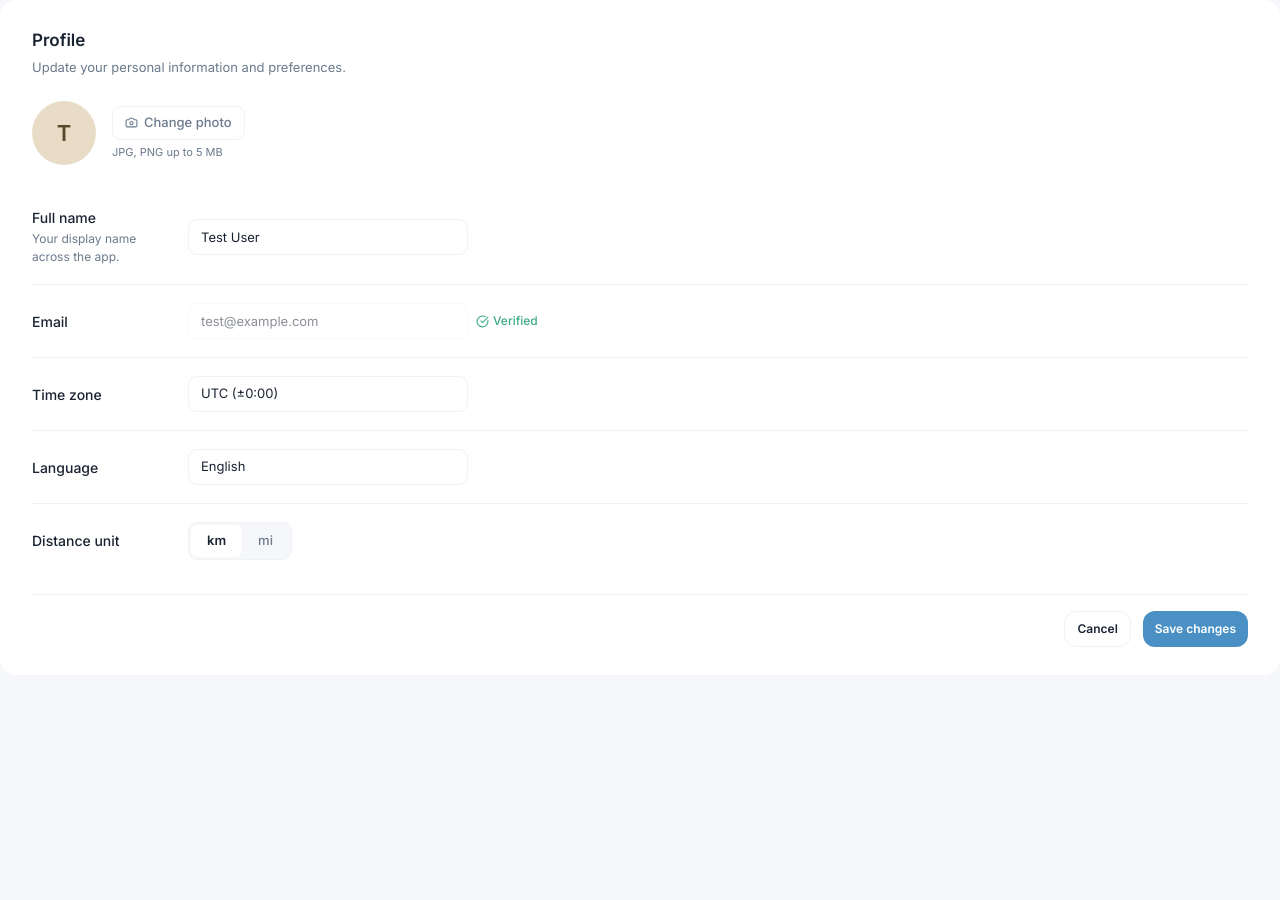
Test case: ProfileSection › shows "No changes to save" toast when nothing has changed
The image size is (1280, 900).
What coordinates should you click on to do the following:
click the button "Save changes"
I would click on:
 (1195, 628)
Its box is [1143,610,1248,646].
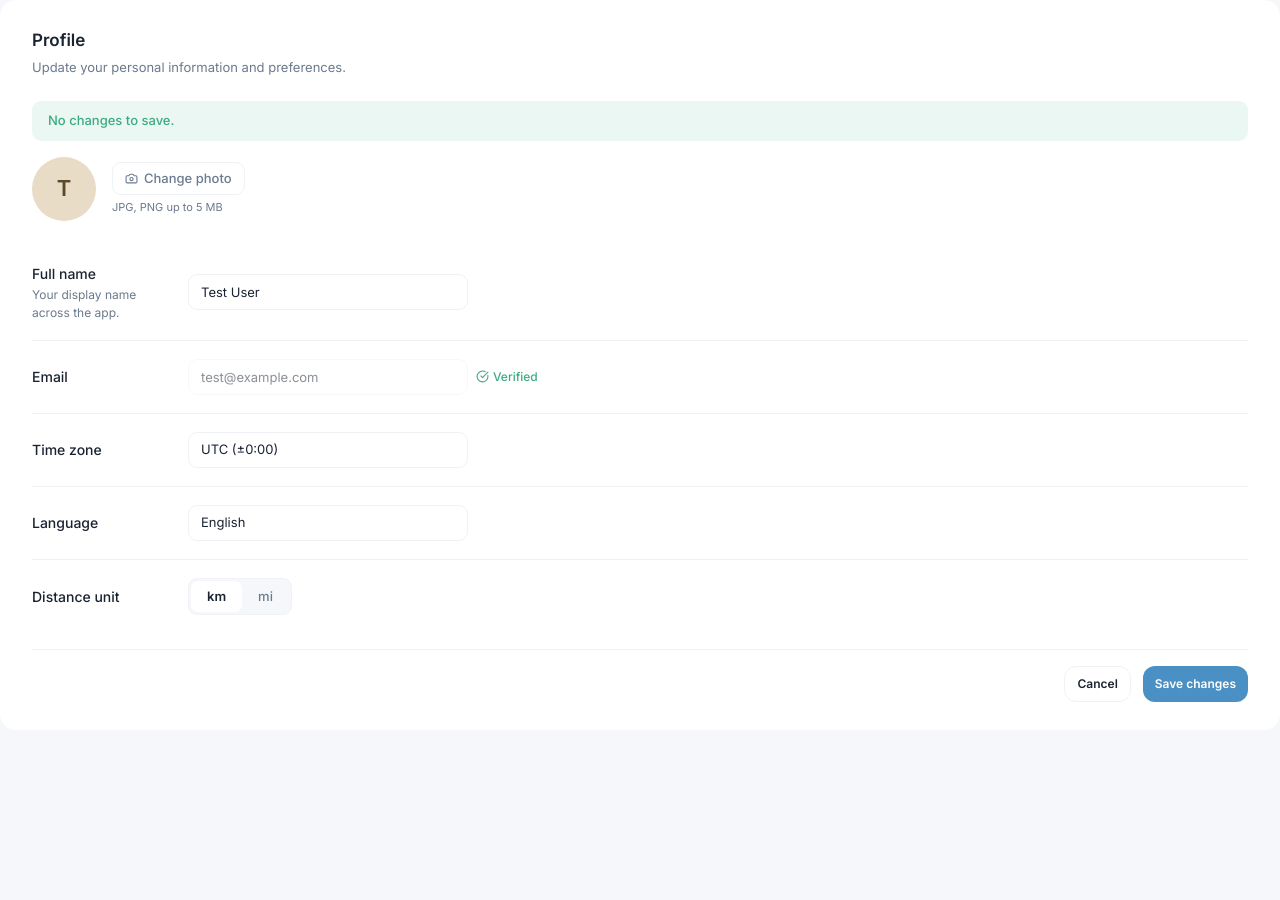
expect the message shows "No changes to save": met, box [48,112,174,128]
